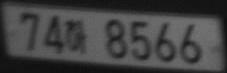4: (42, 13, 65, 54)
5: (129, 20, 152, 61)
6: (179, 23, 203, 64), (154, 21, 176, 62)
7: (20, 11, 40, 50)
8: (104, 18, 128, 59)
하: (65, 18, 88, 54)
